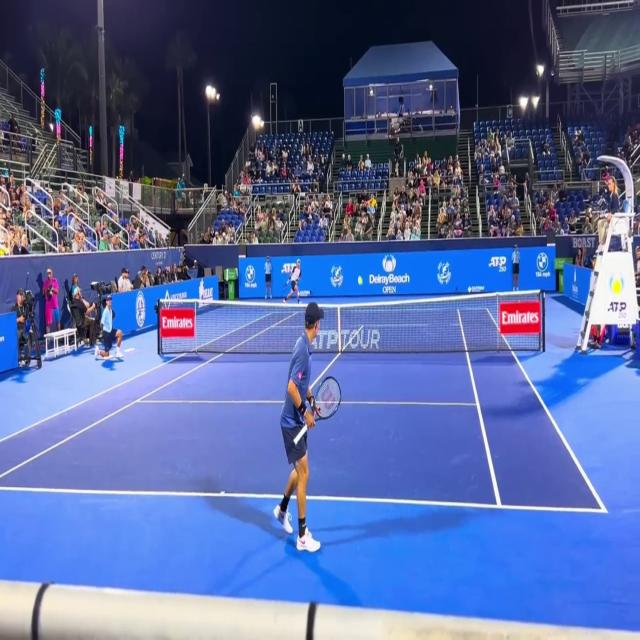tennisBall: (355, 272, 366, 289)
